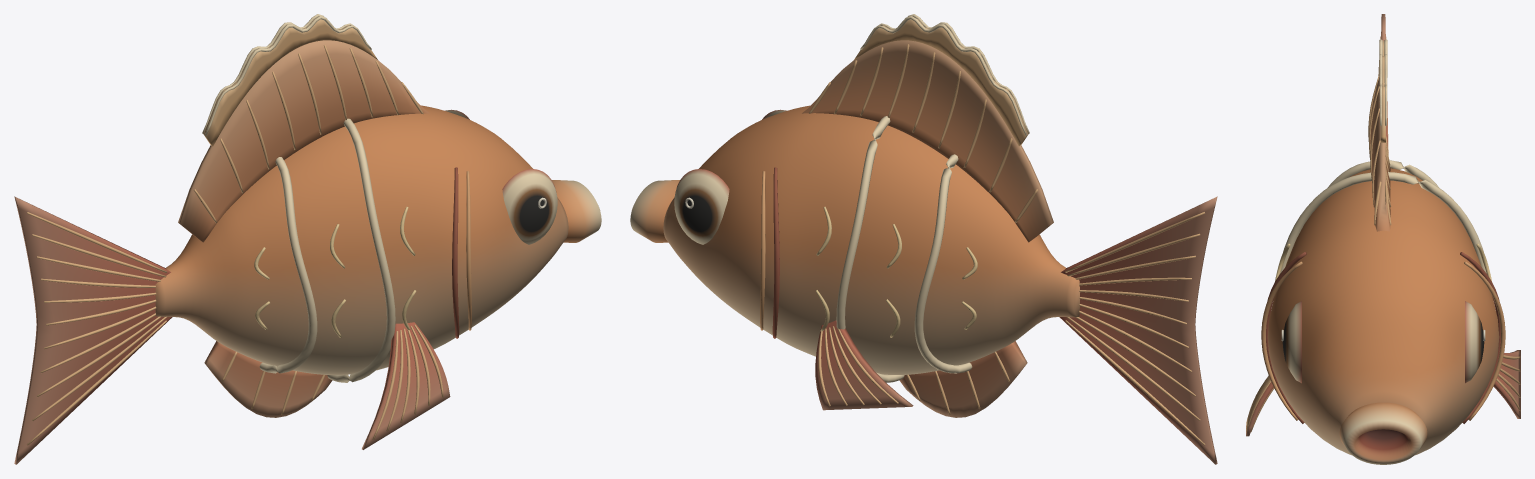
Rendered from fish.glb.
3 views of the same model, side by side, from view 1: azimuth 30°, elevation 25°; view 2: azimuth 150°, elevation 25°; view 3: azimuth 270°, elevation 25° (orthographic).
Visible parts, largest first — view 1: body, tail, growth-markings, pectoral-fin, growth-fin-detail, mouth; view 2: body, tail, growth-markings, growth-fin-detail, mouth; view 3: body, mouth, growth-markings, growth-fin-detail, pectoral-fin.
Part boxes in pixels (box(x1,y1,x2,y2)): body: box(155, 40, 568, 417); tail: box(14, 196, 172, 464); growth-markings: box(254, 118, 416, 382); pectoral-fin: box(362, 322, 450, 449); growth-fin-detail: box(202, 14, 377, 146); mouth: box(552, 180, 601, 242); body: box(663, 40, 1079, 417); tail: box(1059, 196, 1217, 464); growth-markings: box(815, 116, 977, 382); growth-fin-detail: box(854, 14, 1029, 146); mouth: box(630, 180, 679, 242); body: box(1261, 75, 1520, 455); mouth: box(1339, 402, 1427, 464); growth-markings: box(1275, 160, 1491, 281); growth-fin-detail: box(1379, 39, 1387, 142); pectoral-fin: box(1246, 375, 1274, 436).
Size of the model in its own units: 2.06 by 1.35 by 0.85.
